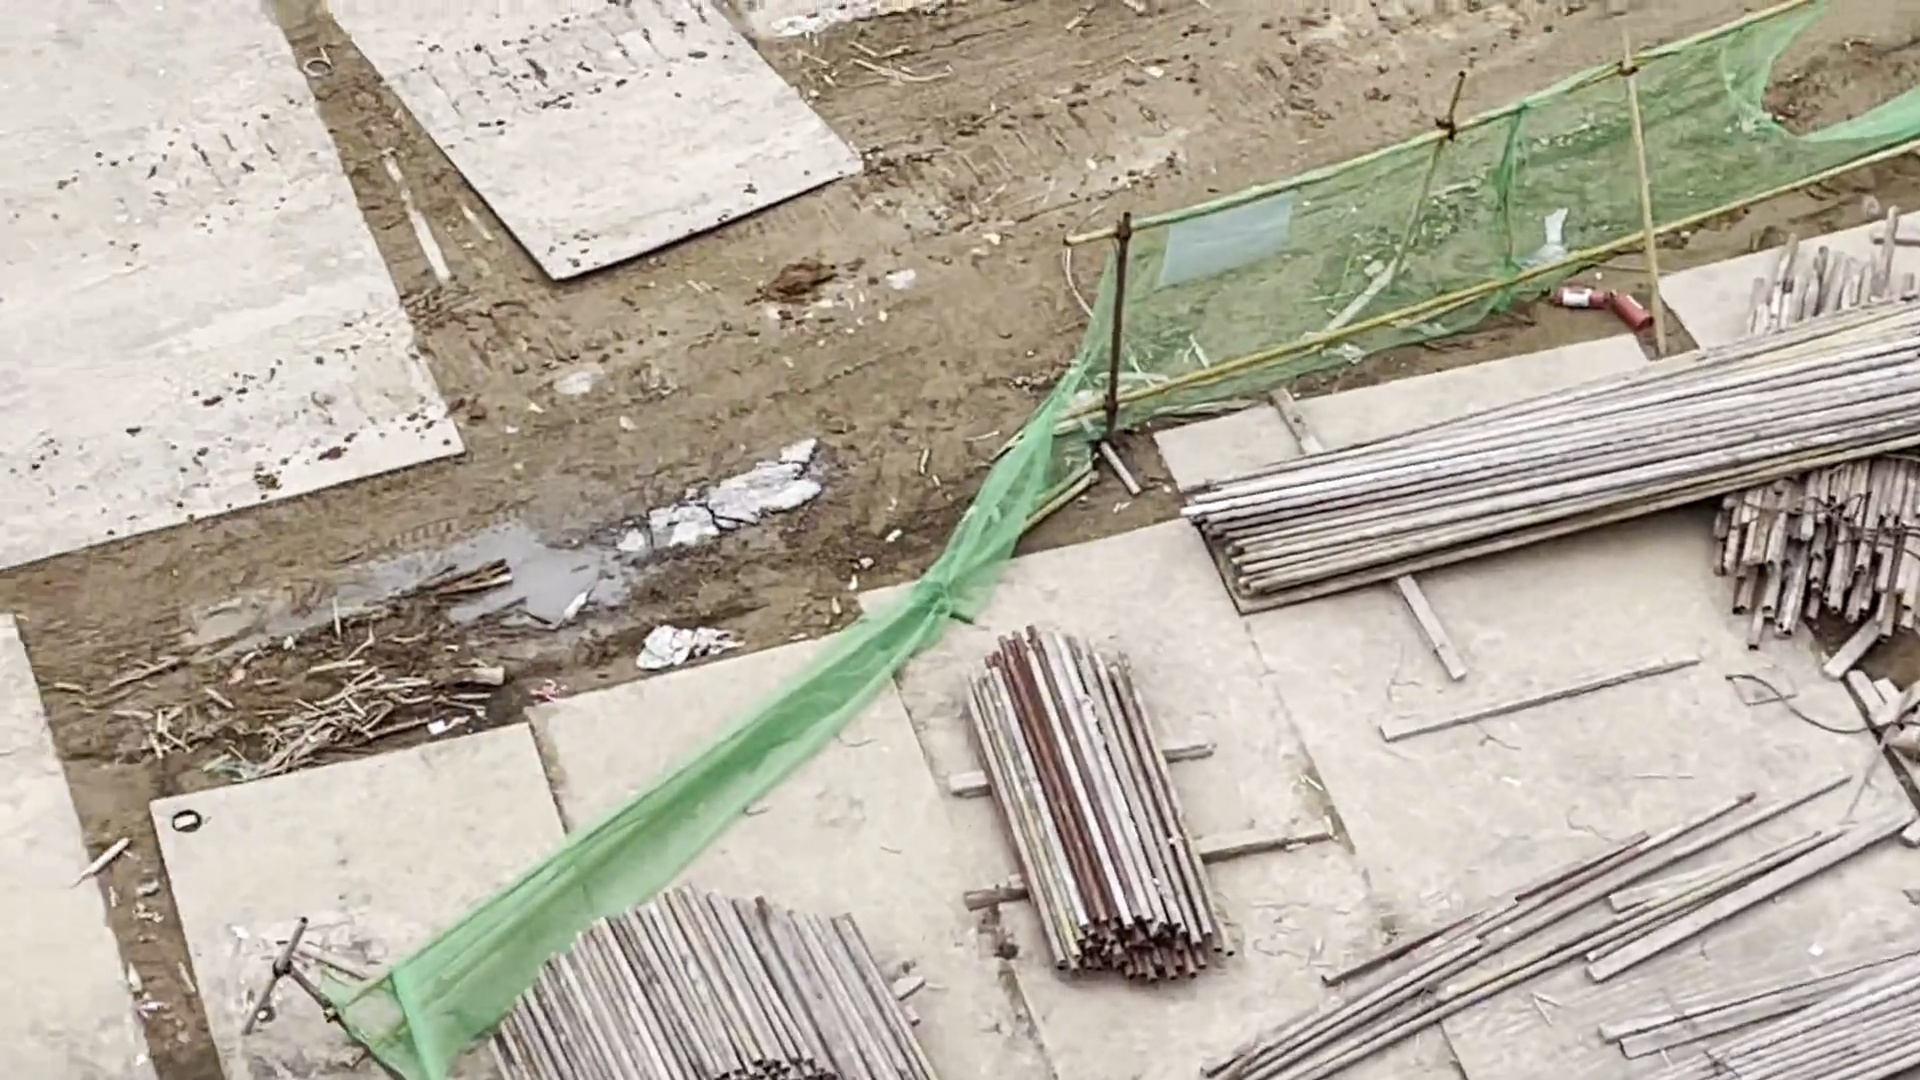wood: (1188, 282, 1920, 626), (944, 626, 1222, 986), (497, 887, 930, 1080)
